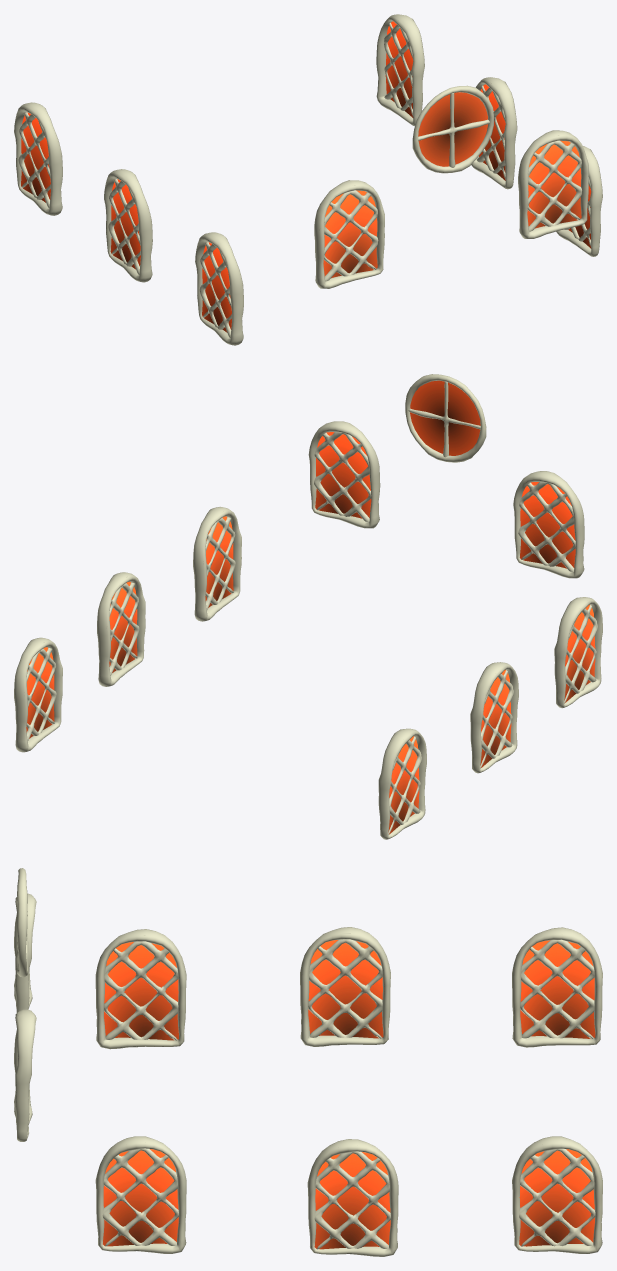
File: Rounded_Windows.glb
3 views of the same model, one above another, from view 1: azimuth 30°, elevation 25°; view 2: azimuth 150°, elevation 25°; view 3: azimuth 270°, elevation 25° (orthographic). The views are drawn at different scales.
Visible parts, largest first — view 1: Retopo_Window_1.001_Baked, Retopo_Window_1.001_Baked.001, Retopo_Window_Top_Round.001_Baked, Retopo_Window_1.001_Baked.005, Retopo_Window_1.001_Baked.004, Retopo_Window_1.001_Baked.002, Retopo_Window_1.001_Baked.003, Retopo_Window_1.001_Baked.006, Retopo_Window_1.001_Baked.007; view 2: Retopo_Window_1.001_Baked.001, Retopo_Window_1.001_Baked, Retopo_Window_Top_Round.001_Baked, Retopo_Window_1.001_Baked.007, Retopo_Window_1.001_Baked.005, Retopo_Window_1.001_Baked.006, Retopo_Window_1.001_Baked.003, Retopo_Window_1.001_Baked.004, Retopo_Window_1.001_Baked.002; view 3: Retopo_Window_1.001_Baked.004, Retopo_Window_1.001_Baked.002, Retopo_Window_1.001_Baked.003, Retopo_Window_1.001_Baked.006, Retopo_Window_1.001_Baked.007, Retopo_Window_1.001_Baked.005, Retopo_Window_1.001_Baked, Retopo_Window_1.001_Baked.001, Retopo_Window_Top_Round.001_Baked.
Part boxes in pixels (box(x1,y1,x2,y2)): Retopo_Window_1.001_Baked: box(518, 130, 588, 238); Retopo_Window_1.001_Baked.001: box(314, 180, 384, 288); Retopo_Window_Top_Round.001_Baked: box(412, 85, 493, 173); Retopo_Window_1.001_Baked.005: box(376, 14, 424, 126); Retopo_Window_1.001_Baked.004: box(14, 102, 62, 215); Retopo_Window_1.001_Baked.002: box(195, 232, 243, 345); Retopo_Window_1.001_Baked.003: box(104, 169, 152, 282); Retopo_Window_1.001_Baked.006: box(471, 77, 517, 189); Retopo_Window_1.001_Baked.007: box(556, 146, 602, 256); Retopo_Window_1.001_Baked.001: box(513, 471, 584, 578); Retopo_Window_1.001_Baked: box(308, 421, 380, 528); Retopo_Window_Top_Round.001_Baked: box(405, 374, 486, 462); Retopo_Window_1.001_Baked.007: box(193, 506, 241, 621); Retopo_Window_1.001_Baked.005: box(14, 637, 62, 752); Retopo_Window_1.001_Baked.006: box(97, 572, 145, 686); Retopo_Window_1.001_Baked.003: box(470, 662, 518, 773); Retopo_Window_1.001_Baked.004: box(378, 728, 426, 839); Retopo_Window_1.001_Baked.002: box(554, 597, 602, 708); Retopo_Window_1.001_Baked.004: box(512, 927, 602, 1047); Retopo_Window_1.001_Baked.002: box(95, 929, 186, 1049); Retopo_Window_1.001_Baked.003: box(300, 927, 390, 1046); Retopo_Window_1.001_Baked.006: box(307, 1139, 398, 1256); Retopo_Window_1.001_Baked.007: box(95, 1136, 186, 1253); Retopo_Window_1.001_Baked.005: box(512, 1136, 602, 1253); Retopo_Window_1.001_Baked: box(14, 1009, 36, 1141); Retopo_Window_1.001_Baked.001: box(14, 893, 36, 1012); Retopo_Window_Top_Round.001_Baked: box(17, 868, 28, 977).
Bounding box in the file's own units: 0.0937 × 0.0552 × 0.1054.
4 materials, 4 textured.
